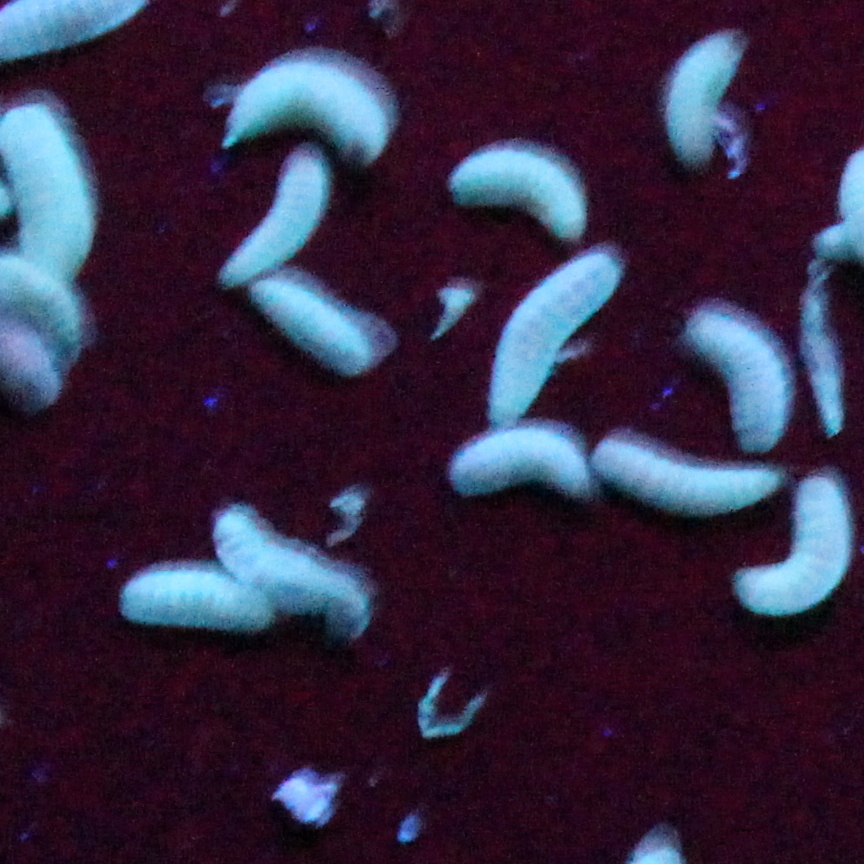larve: (492, 254, 621, 423), (739, 479, 851, 619), (222, 61, 387, 156), (213, 514, 365, 612), (686, 312, 790, 450), (221, 152, 325, 286), (592, 441, 780, 514), (450, 146, 584, 238), (251, 277, 380, 372), (122, 565, 272, 630), (666, 34, 740, 161), (452, 430, 591, 497)
